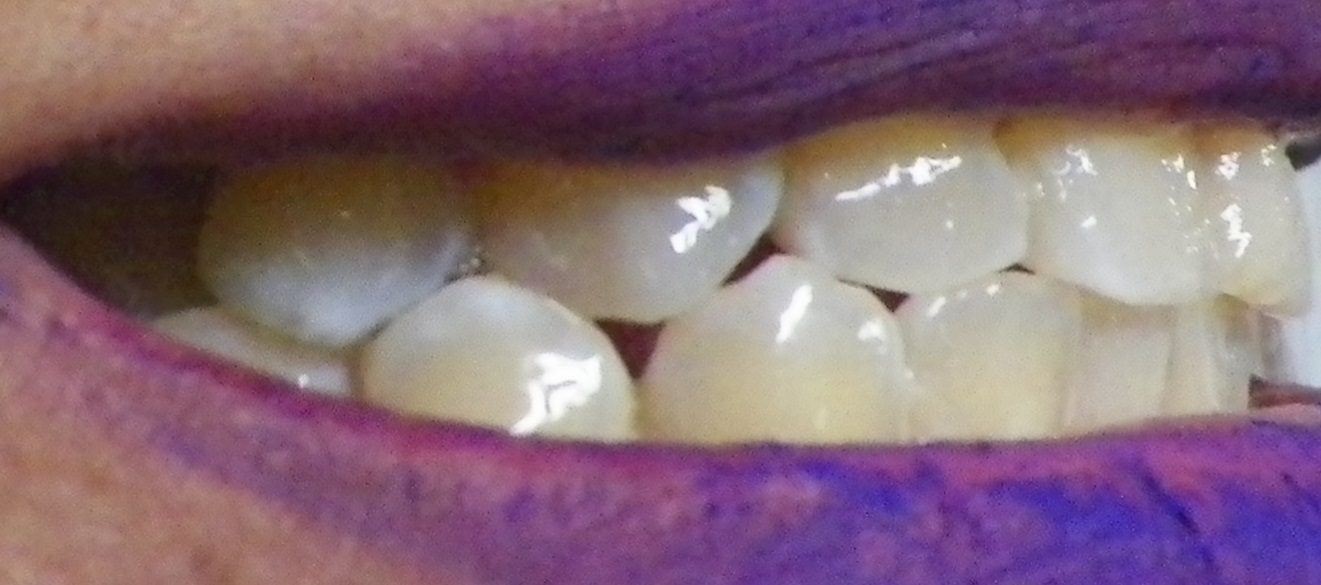boca: (138, 119, 1311, 448)
